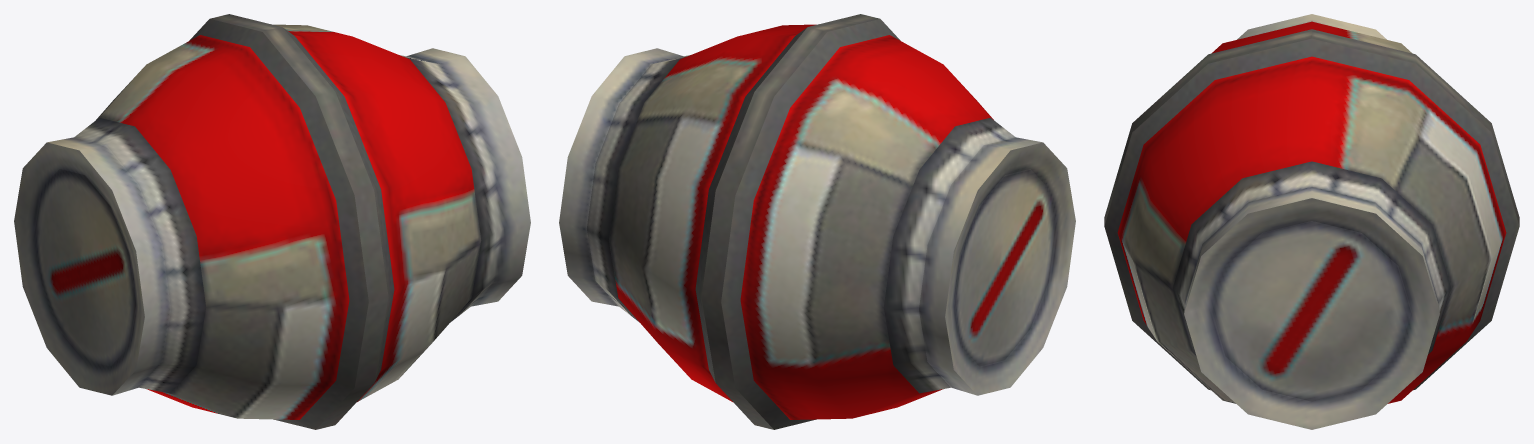
File: MenkMack_Mine_Projectile_Red.obj
The picture shows the model from 3 angles, left to right: view 1: azimuth 30°, elevation 25°; view 2: azimuth 150°, elevation 25°; view 3: azimuth 270°, elevation 25°; orthographic projection. The views are drawn at different scales.
Parts seen in each view (by area): view 1: projectiles_MenkMackMineRed; view 2: projectiles_MenkMackMineRed; view 3: projectiles_MenkMackMineRed.
Boxes of the visible parts, bbox=[...] form: projectiles_MenkMackMineRed: bbox=[14, 14, 530, 429]; projectiles_MenkMackMineRed: bbox=[559, 14, 1075, 429]; projectiles_MenkMackMineRed: bbox=[1104, 14, 1519, 429].
Bounding box in the file's own units: 0.757 × 0.7215 × 0.7215.
1 material, 1 textured.
